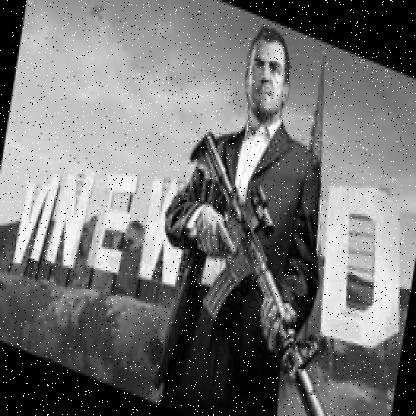rifle: (150, 120, 380, 416)
